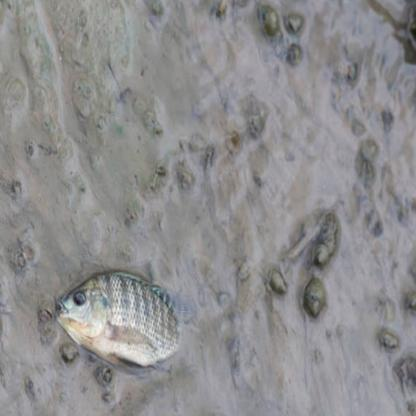deceased fish: (57, 273, 198, 379)
